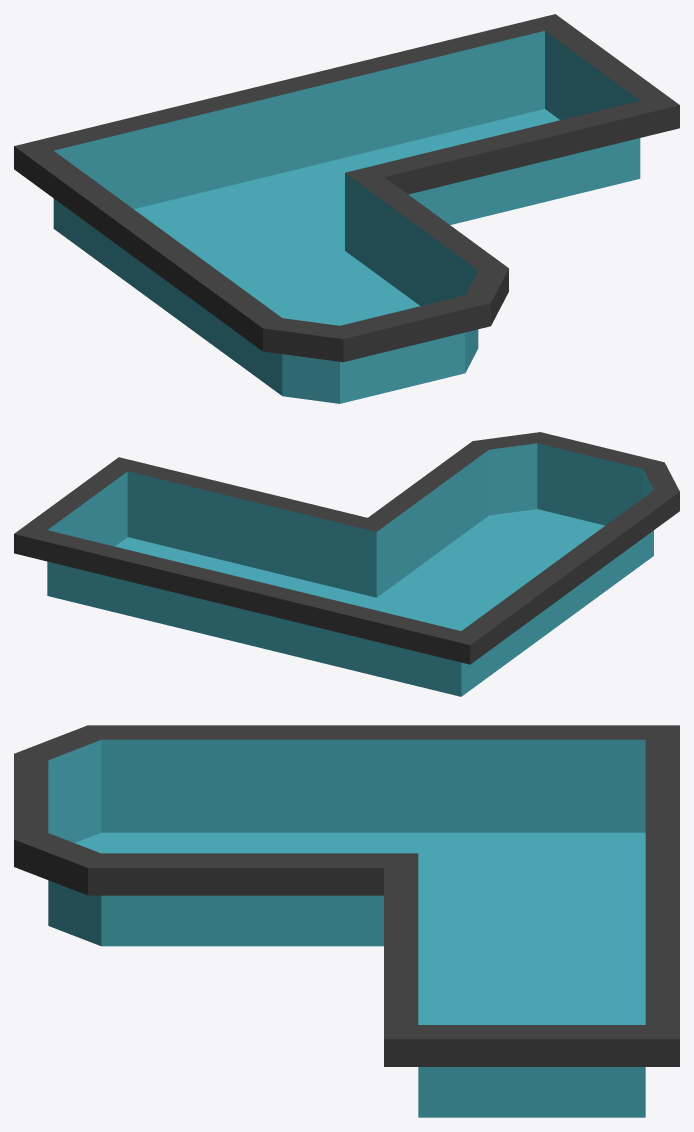
File: Pool_Black_vc.fbx
3 renders of one model, top to bottom at view 1: azimuth 30°, elevation 25°; view 2: azimuth 150°, elevation 25°; view 3: azimuth 270°, elevation 25°, orthographic. The views are drawn at different scales.
Parts seen in each view (by area): view 1: Pool_Brown_Black_vc; view 2: Pool_Brown_Black_vc; view 3: Pool_Brown_Black_vc.
Boxes of the visible parts, left/top/right/bottom form: Pool_Brown_Black_vc: left=14, top=14, right=679, bottom=403; Pool_Brown_Black_vc: left=14, top=432, right=679, bottom=696; Pool_Brown_Black_vc: left=14, top=725, right=679, bottom=1117.
Size of the model in its own units: 2115 by 292 by 1895.
